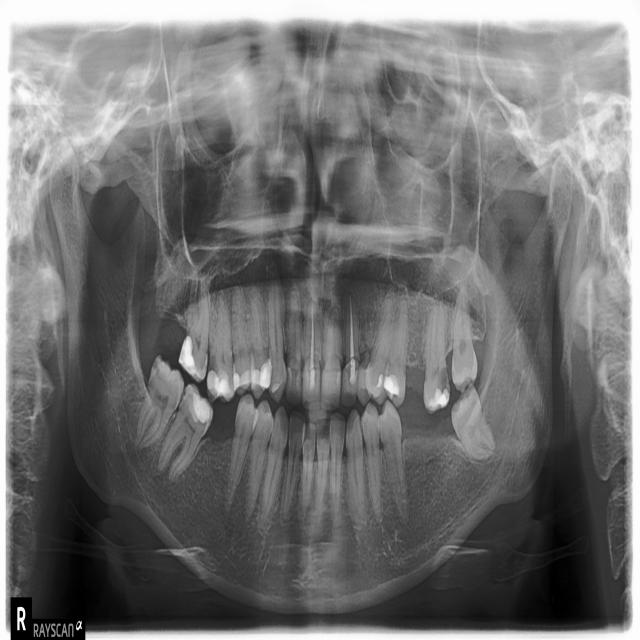mandibula: (49, 138, 576, 621)
